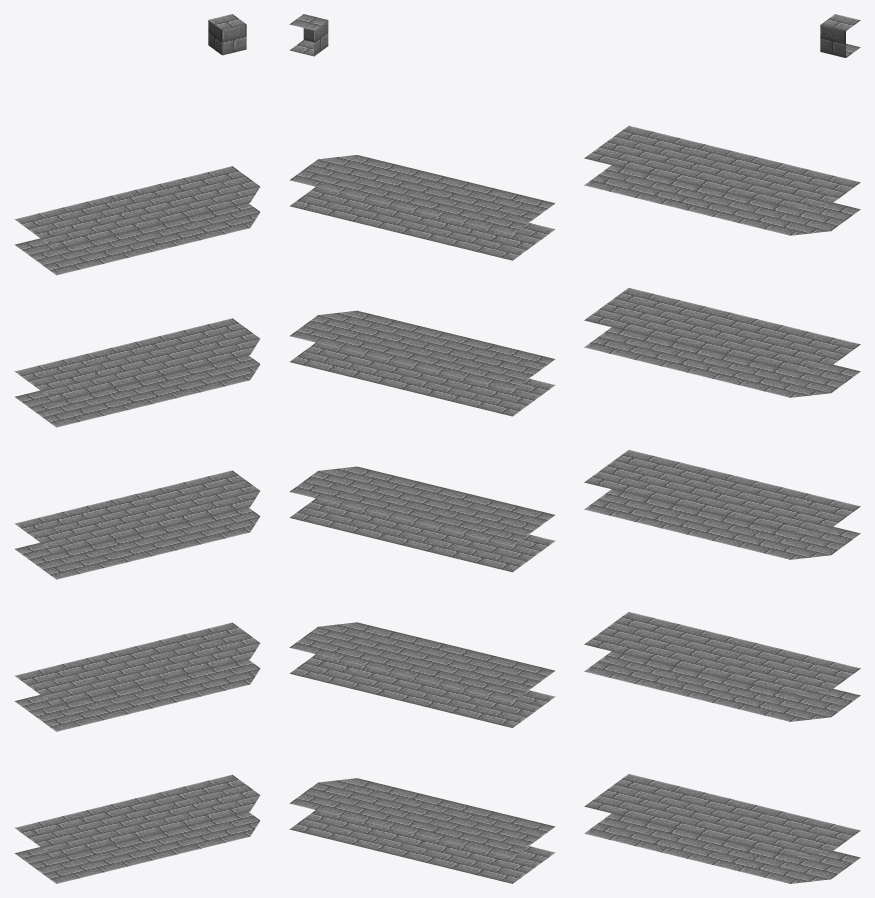
The model's file is Stone_Bricks_Chunk_4_20.fbx.
3 views of the same model, side by side, from view 1: azimuth 30°, elevation 25°; view 2: azimuth 150°, elevation 25°; view 3: azimuth 330°, elevation 25° (orthographic). The views are drawn at different scales.
Parts seen in each view (by area): view 1: Stone_Bricks_Chunk_4_20; view 2: Stone_Bricks_Chunk_4_20; view 3: Stone_Bricks_Chunk_4_20.
Boxes of the visible parts, left/top/right/bottom form: Stone_Bricks_Chunk_4_20: left=14, top=14, right=260, bottom=883; Stone_Bricks_Chunk_4_20: left=289, top=14, right=555, bottom=883; Stone_Bricks_Chunk_4_20: left=584, top=14, right=860, bottom=883.
Size of the model in its own units: 900 by 3100 by 300.
Materials: 1 (1 with a texture image).
